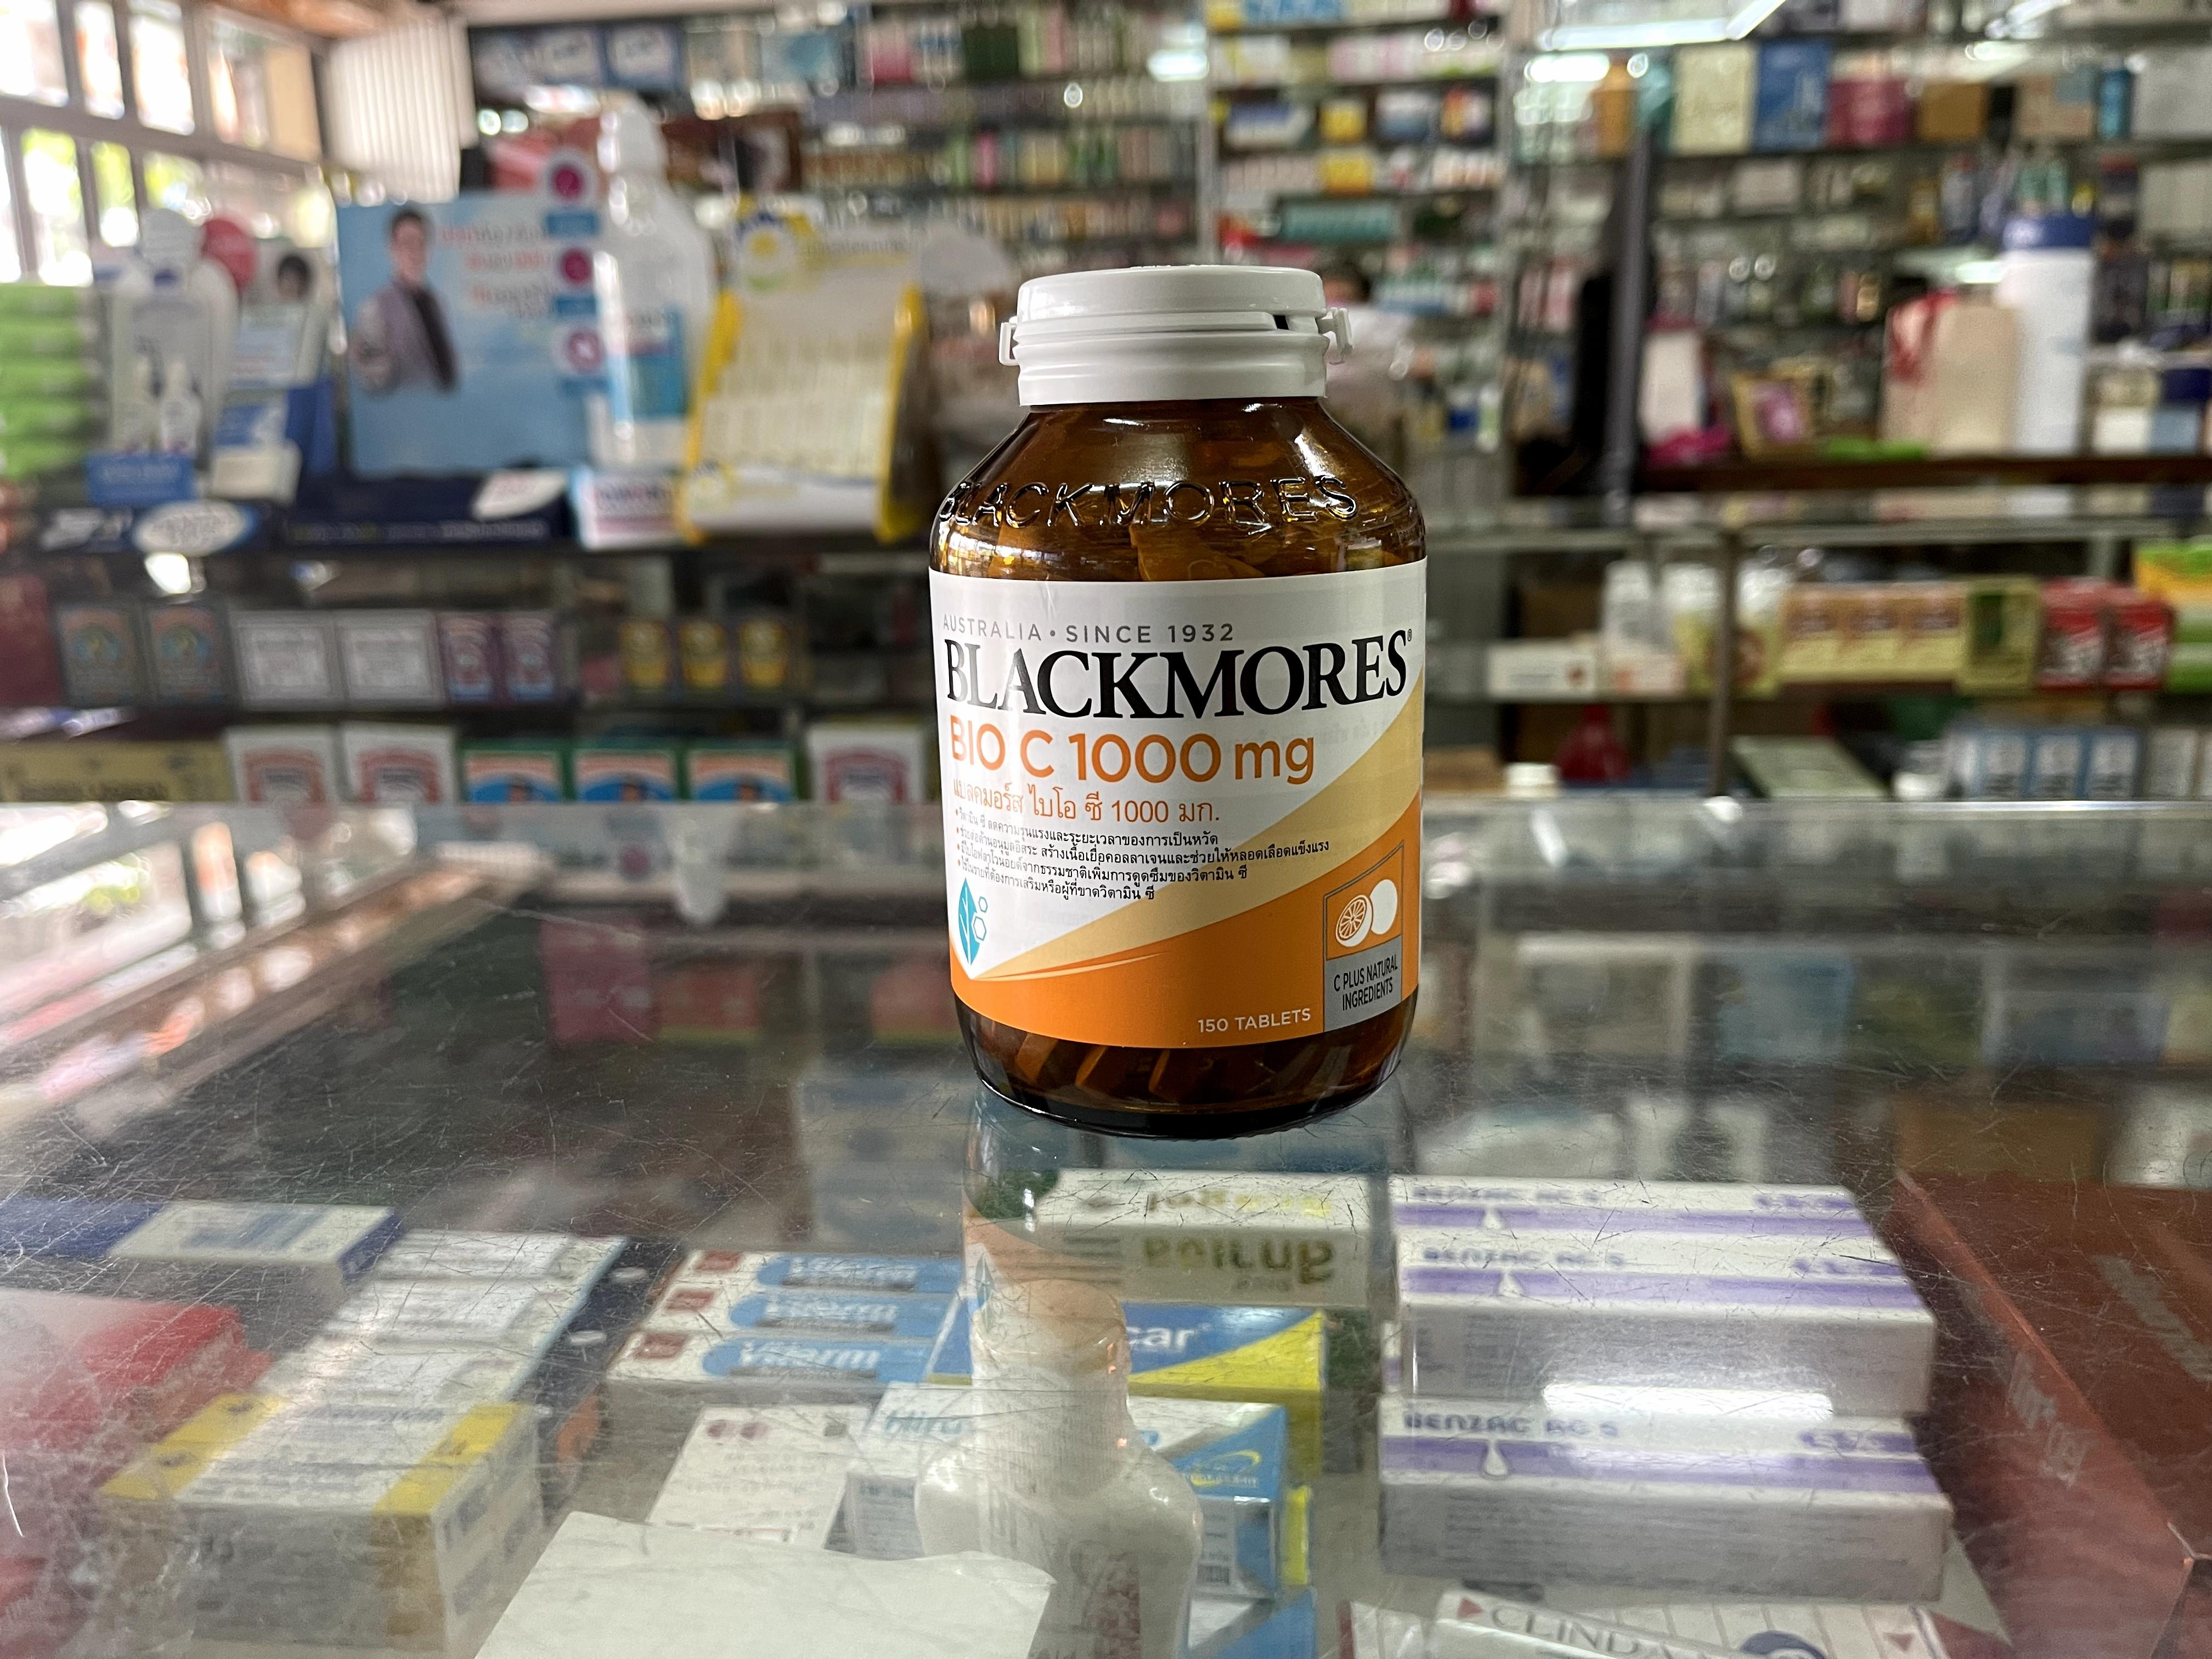Blackmores: (927, 263, 1432, 1147)
